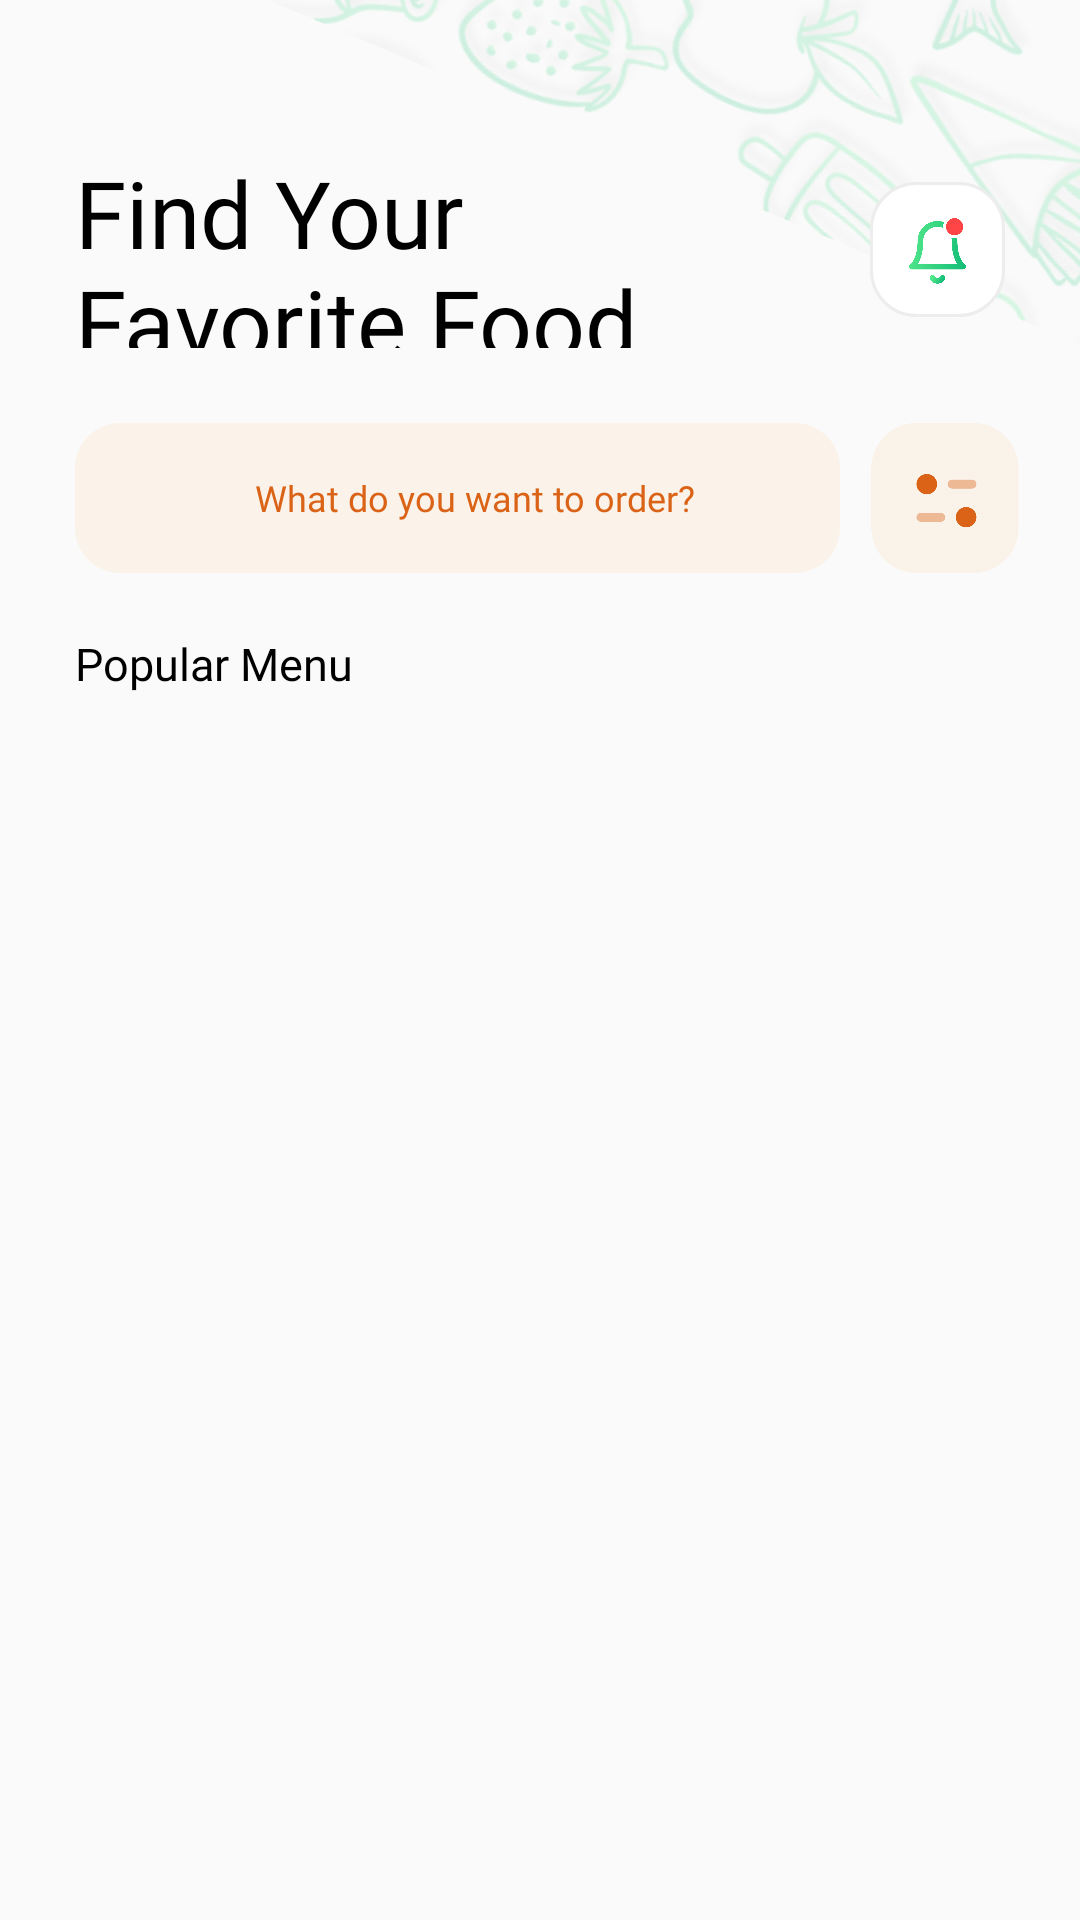

Screen size 1080px×1920px. Icon name, then its center in pixels as point (x, y):
filter: point (945, 498)
notification: point (937, 251)
